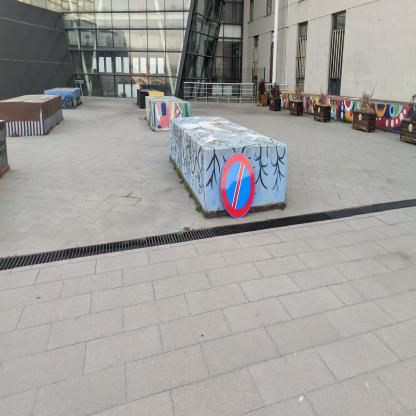No Waiting: (222, 154, 257, 220)
